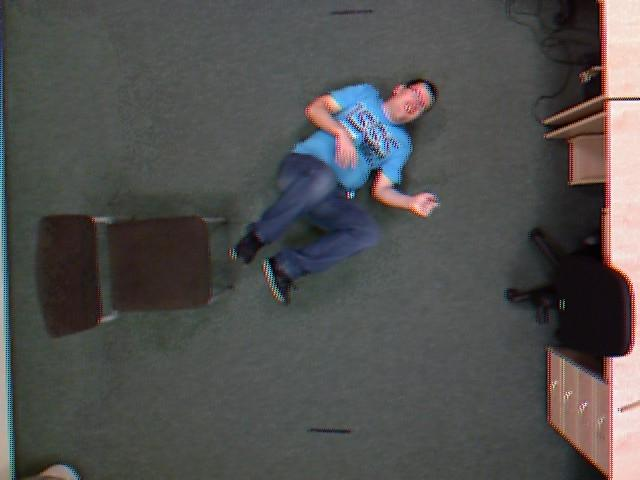fall: (226, 74, 450, 311)
